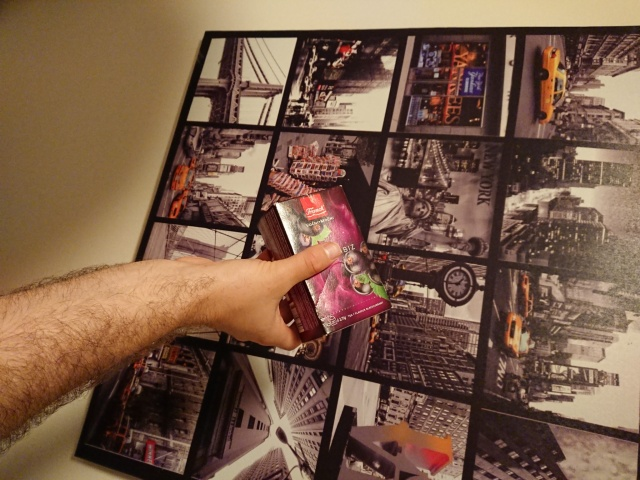Franck Black Currant Tea 60g: (254, 182, 393, 345)
